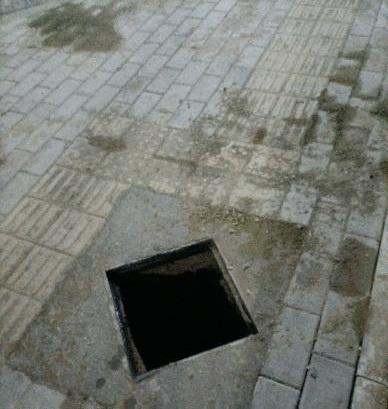wellcover: (97, 227, 261, 387)
